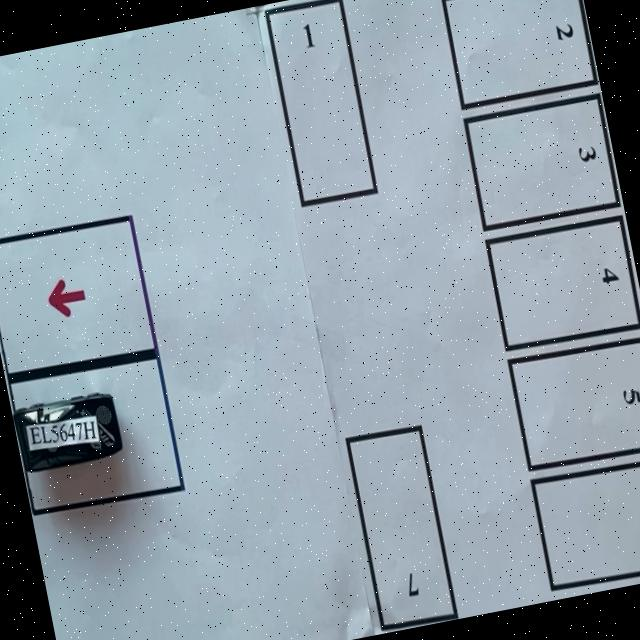car: (10, 384, 129, 481)
